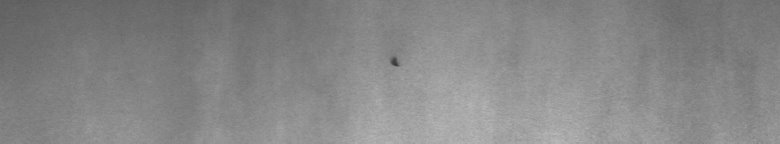fi: (385, 52, 404, 74)
